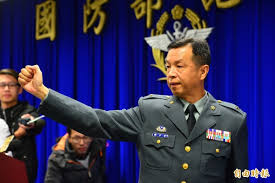fist: (16, 62, 45, 97)
